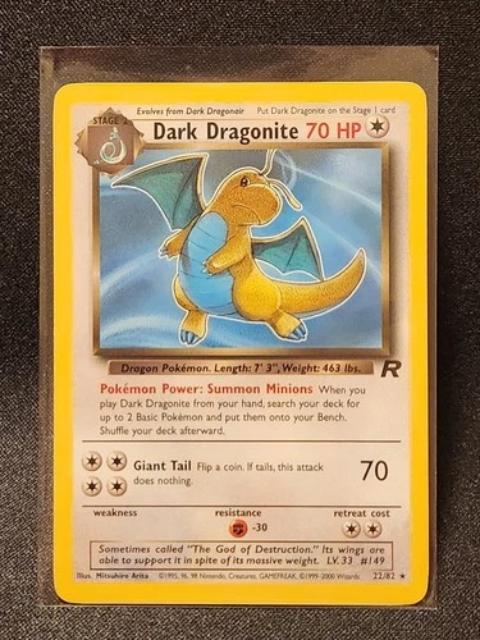Card: (47, 75, 433, 612)
Name: (142, 119, 302, 150)
